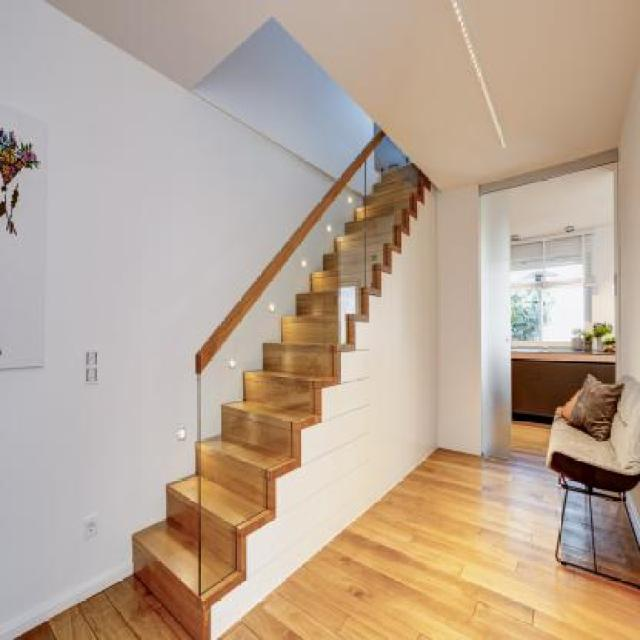stair: (108, 136, 440, 624)
